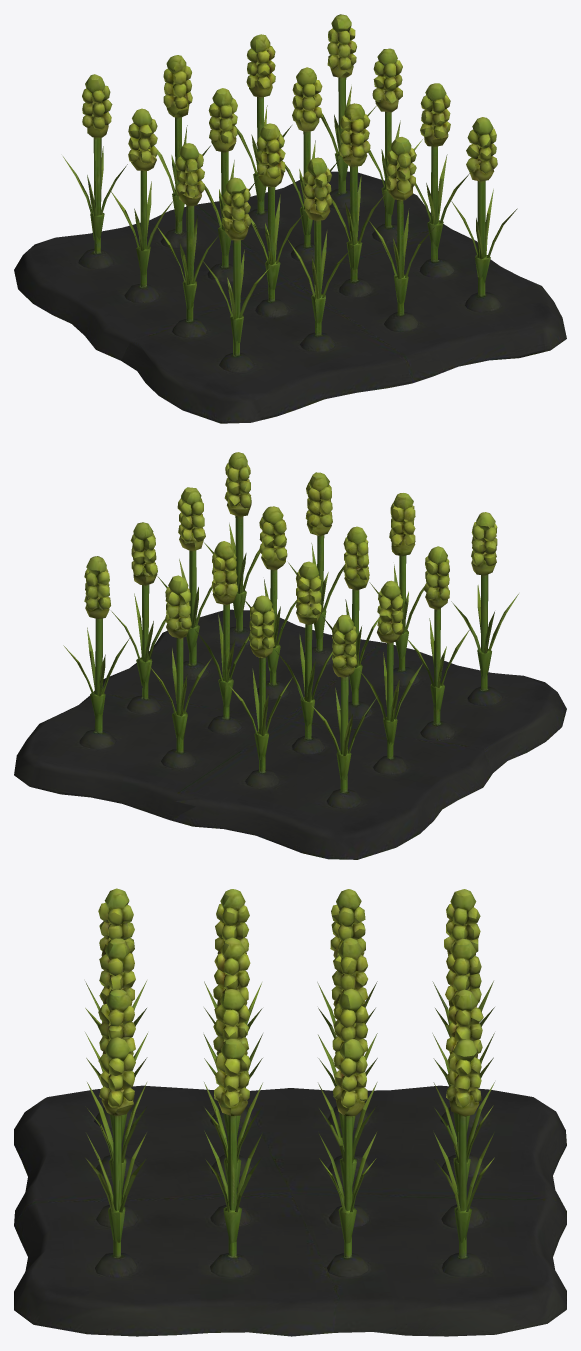
File: golden_wheat_stage2.glb
3 views of the same model, one above another, from view 1: azimuth 30°, elevation 25°; view 2: azimuth 150°, elevation 25°; view 3: azimuth 270°, elevation 25° (orthographic). The views are drawn at different scales.
Visible parts, largest first — view 1: mesh_node; view 2: mesh_node; view 3: mesh_node.
Part boxes in pixels (x1=…): mesh_node: x1=14, y1=14, x2=566, y2=423; mesh_node: x1=14, y1=452, x2=566, y2=859; mesh_node: x1=14, y1=888, x2=566, y2=1336.
Size of the model in its own units: 1 by 0.5156 by 1.
Materials: 1 (1 with a texture image).
